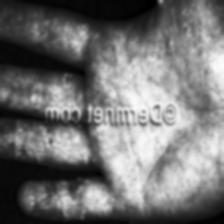Non-Cancerous Skin Condition: (127, 39, 170, 79), (123, 130, 163, 163), (56, 180, 86, 220), (45, 130, 54, 148), (204, 70, 214, 86), (184, 27, 192, 39)
